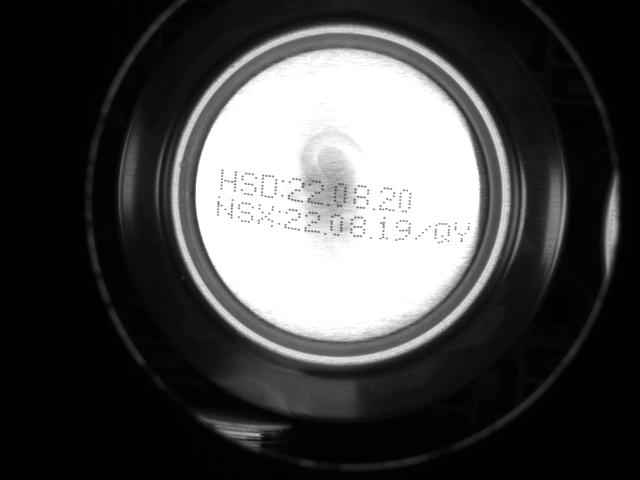.: (322, 220, 329, 237), (366, 225, 373, 242), (370, 195, 377, 212), (326, 191, 331, 208)
/: (414, 223, 432, 242)
0: (332, 180, 348, 209), (328, 211, 344, 240), (397, 185, 413, 214)
1: (376, 214, 389, 240)
2: (287, 174, 304, 204), (306, 176, 323, 206), (283, 204, 300, 234), (303, 206, 320, 236), (378, 182, 395, 212)
8: (352, 183, 371, 211), (347, 213, 366, 241)
9: (393, 218, 411, 242)
:: (280, 177, 286, 199), (276, 206, 282, 228)
D: (259, 172, 278, 201)
H: (217, 166, 238, 194)
N: (215, 194, 234, 221)
Q: (433, 220, 453, 246)
S: (238, 169, 258, 198), (235, 199, 255, 228)
X: (256, 200, 276, 231)
Y: (453, 218, 471, 246)
